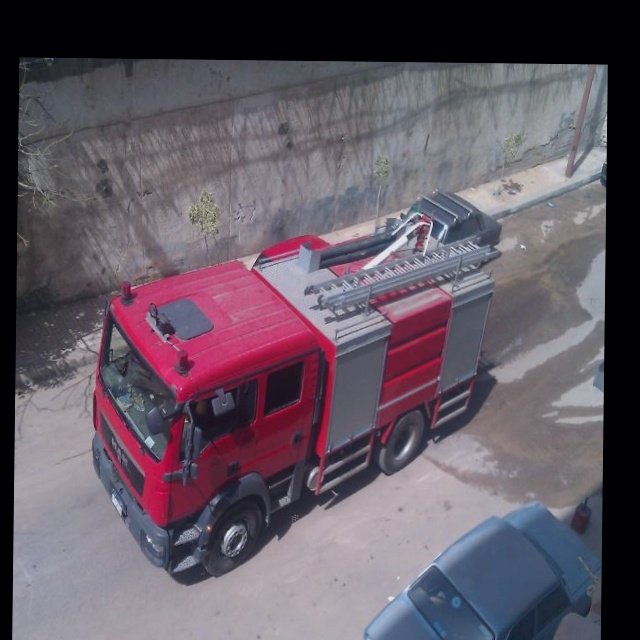Fire-truck: (90, 183, 504, 582)
car: (363, 498, 602, 640)
